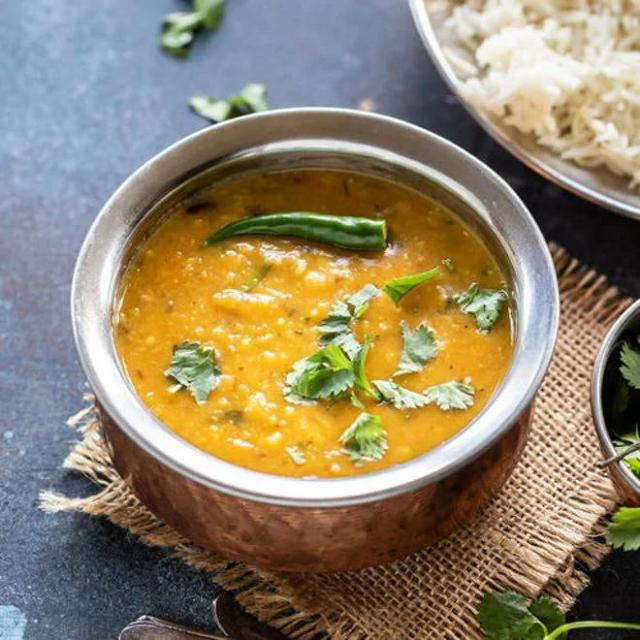dal: (118, 166, 513, 477)
